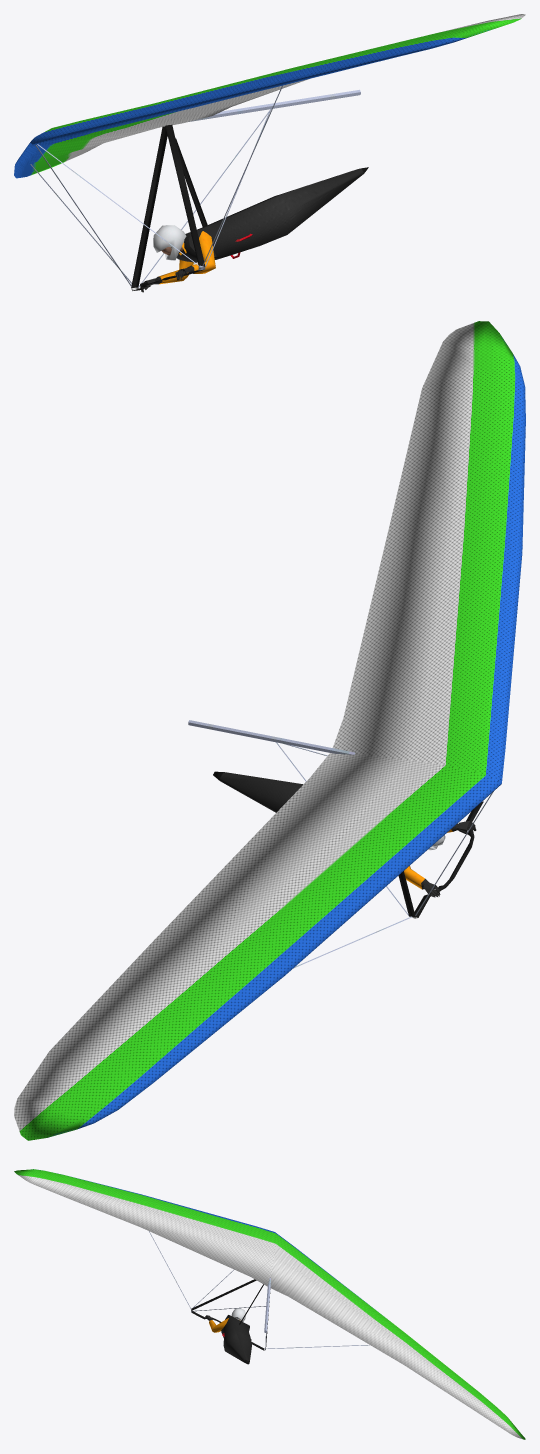
Rendered from hang-glider-green-thermal-cbj_LOD02.gltf.
3 views of the same model, one above another, from view 1: azimuth 30°, elevation 25°; view 2: azimuth 150°, elevation 25°; view 3: azimuth 270°, elevation 25° (orthographic). The views are drawn at different scales.
Visible parts, largest first — view 1: hang-glider00; view 2: hang-glider00; view 3: hang-glider00.
Part boxes in pixels (<box>): hang-glider00: <box>14,14,525,292</box>; hang-glider00: <box>14,321,525,1140</box>; hang-glider00: <box>14,1169,525,1439</box>.
Size of what is drawn, in the model's own units: 3.49 by 5.03 by 8.71.
